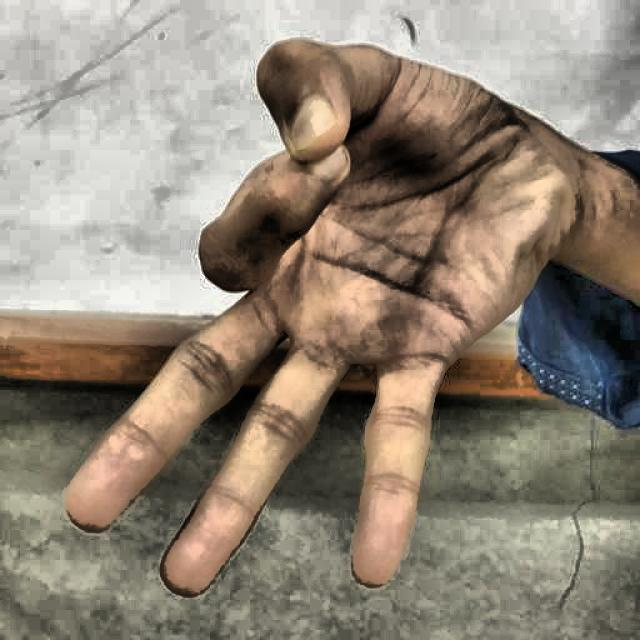Fa: (50, 24, 583, 624)
